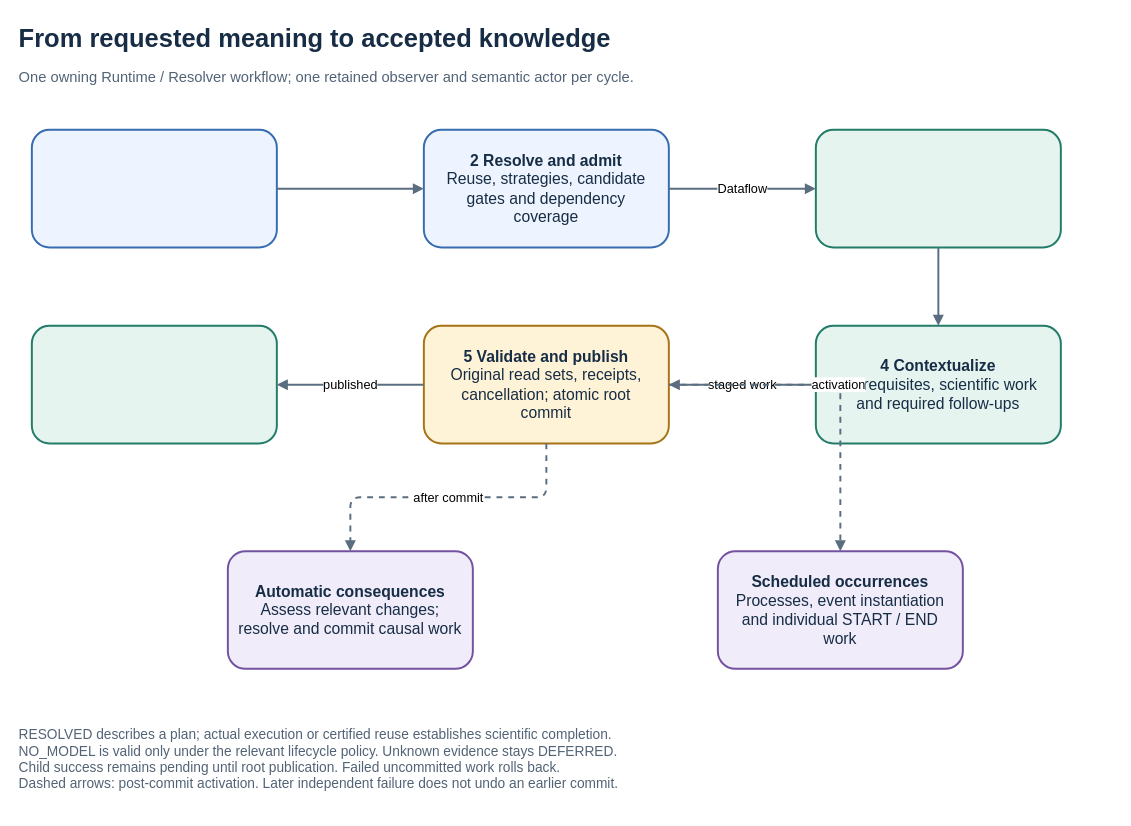
Some shapes in this 1131 by 826 pixel diagram are drawn without their labels. Here are the shapes that lost their labels. From the top down, the centre of each, then its label:
At (153,188): "1 Request Observable, context, support; optional lexical selectors".
At (937,188): "3 Compile and bind Actual targets, aliases, executors and native input plans".
At (153,384): "6 Committed result Interpret outcome and support for the requested operation".
